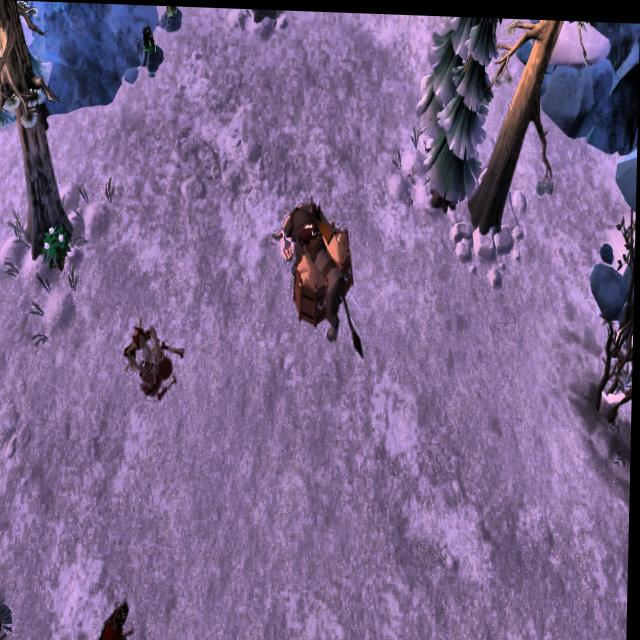enemy_factionUndead: (123, 308, 163, 374), (99, 600, 137, 640)
fiber_t3: (41, 223, 71, 275)
ore_t3: (142, 22, 158, 56), (165, 5, 177, 18)
